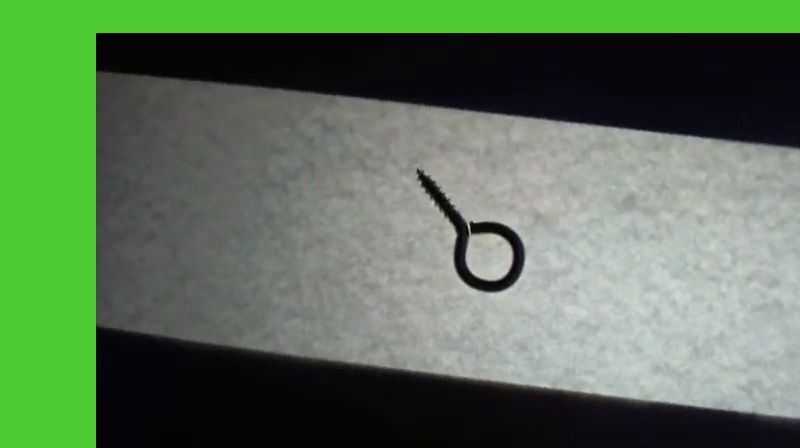O001: (412, 162, 528, 296)
